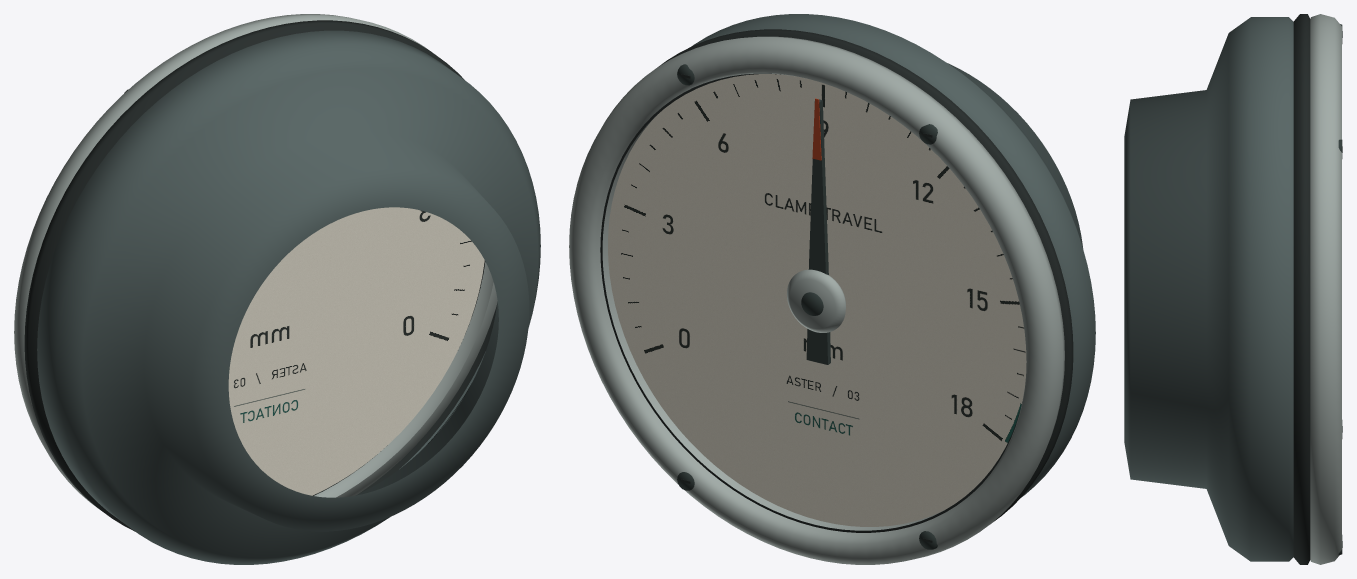
File: ClampIndicator.fbx
The picture shows the model from 3 angles, left to right: view 1: azimuth 30°, elevation 25°; view 2: azimuth 150°, elevation 25°; view 3: azimuth 270°, elevation 25°; orthographic projection. The views are drawn at different scales.
Parts seen in each view (by area): view 1: clamp_gauge_body; view 2: clamp_gauge_body, clamp_gauge_needle; view 3: clamp_gauge_body.
Boxes of the visible parts, x1=… form: clamp_gauge_body: x1=14, y1=14, x2=540, y2=564; clamp_gauge_body: x1=569, y1=14, x2=1095, y2=564; clamp_gauge_needle: x1=786, y1=98, x2=845, y2=364; clamp_gauge_body: x1=1124, y1=14, x2=1342, y2=564.
Bounding box in the file's own units: 0.174 × 0.174 × 0.069.
Materials: 6 (1 with a texture image).
